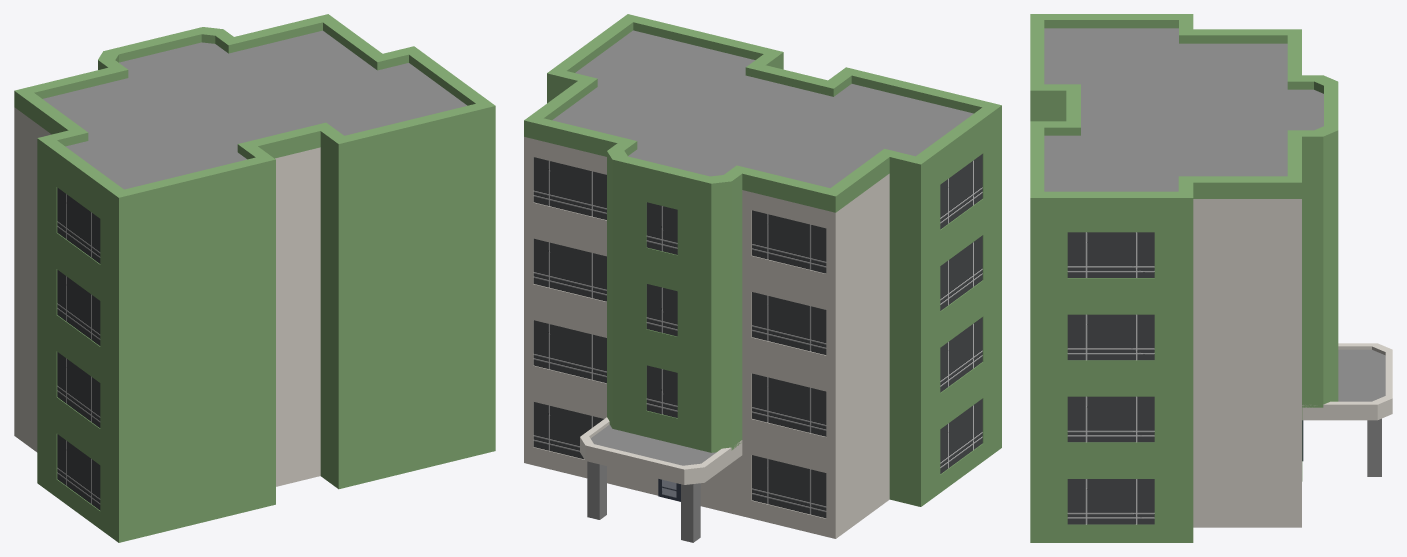
The model's file is bldg_01_01.glb.
3 renders of one model, left to right at view 1: azimuth 30°, elevation 25°; view 2: azimuth 150°, elevation 25°; view 3: azimuth 270°, elevation 25°, orthographic.
Parts seen in each view (by area): view 1: SPW_Urban_Bldg_01; view 2: SPW_Urban_Bldg_01; view 3: SPW_Urban_Bldg_01.
Part boxes in pixels (<box>): SPW_Urban_Bldg_01: <box>14,14,495,542</box>; SPW_Urban_Bldg_01: <box>524,14,1001,542</box>; SPW_Urban_Bldg_01: <box>1030,14,1392,542</box>.
Bounding box in the file's own units: 21 × 18.38 × 17.5.
Materials: 1 (1 with a texture image).
